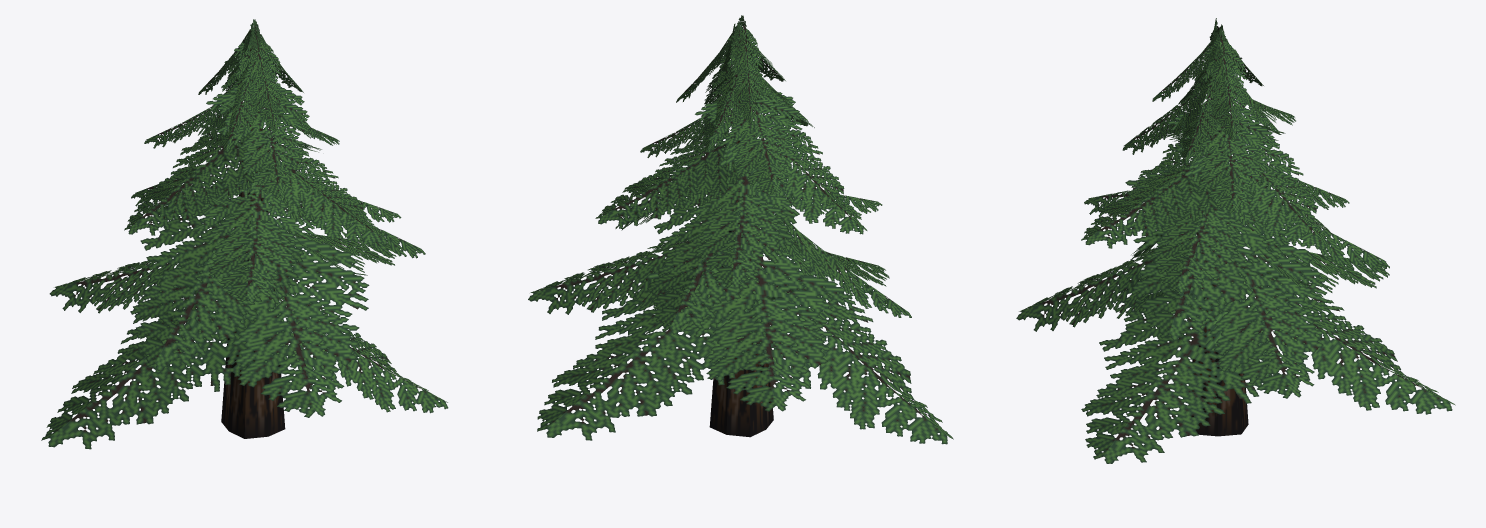
File: PineTreeDarkoutlinePines.fbx
3 views of the same model, side by side, from view 1: azimuth 30°, elevation 25°; view 2: azimuth 150°, elevation 25°; view 3: azimuth 270°, elevation 25° (orthographic).
Visible parts, largest first — view 1: Cube; view 2: Cube; view 3: Cube.
Boxes of the visible parts, left/top/right/bottom form: Cube: left=41, top=19, right=448, bottom=449; Cube: left=528, top=15, right=953, bottom=444; Cube: left=1016, top=18, right=1455, bottom=463.
Size of the model in its own units: 796 by 780 by 784.
